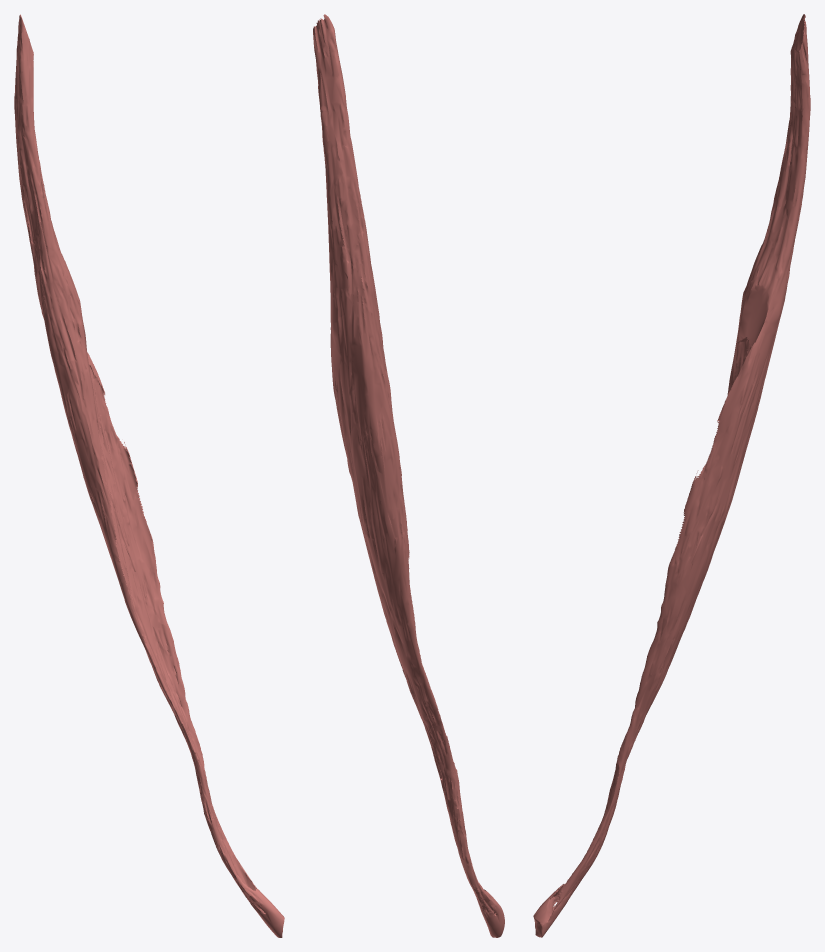
3 renders of one model, left to right at view 1: azimuth 90°, elevation 25°; view 2: azimuth 150°, elevation 25°; view 3: azimuth 270°, elevation 25°, orthographic. The views are drawn at different scales.
Visible parts, largest first — view 1: BP45; view 2: BP45; view 3: BP45.
Boxes of the visible parts, x1,y1,x2,y2 form: BP45: (14, 14, 284, 937); BP45: (313, 14, 504, 937); BP45: (533, 14, 810, 937).
Size of the model in its own units: 0.0181 by 0.2879 by 0.0774.
